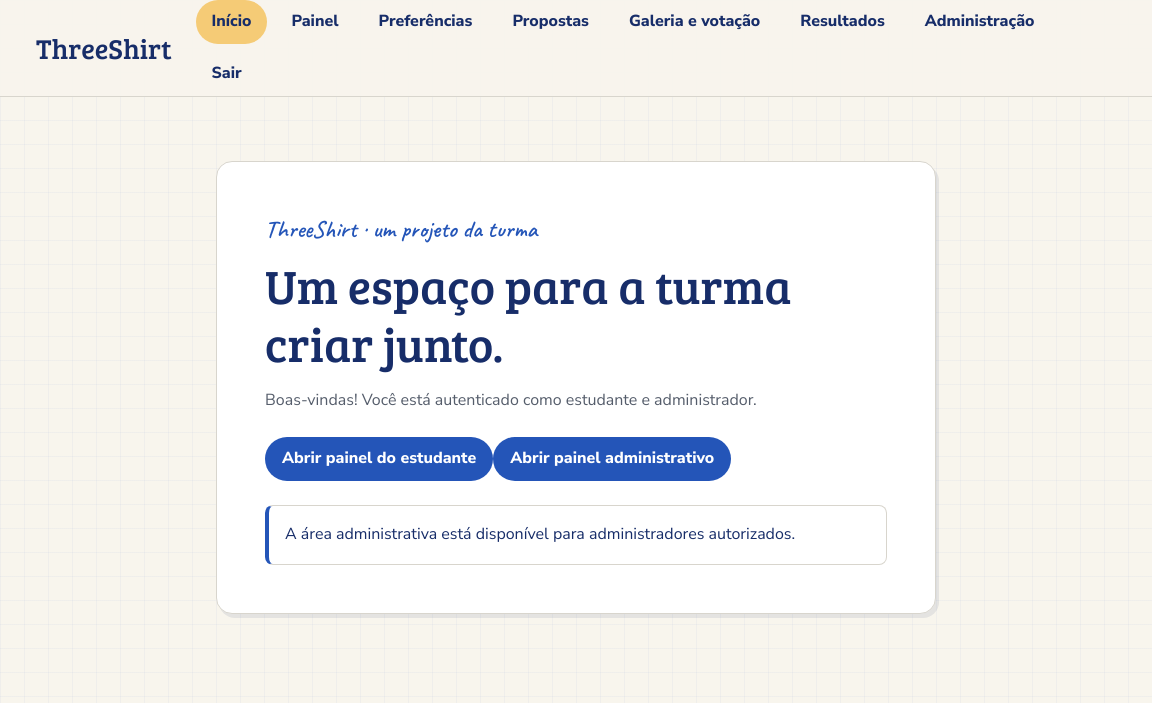
Test: a student administrator sees both menus and can enter both protected areas
Check: the text "estudante e administrador" is shown, box [566,389,753,411]
Check: the link "Propostas" is shown, box [512,10,589,32]
Click the link "Preferências" at (425, 21), box [378,10,472,32]
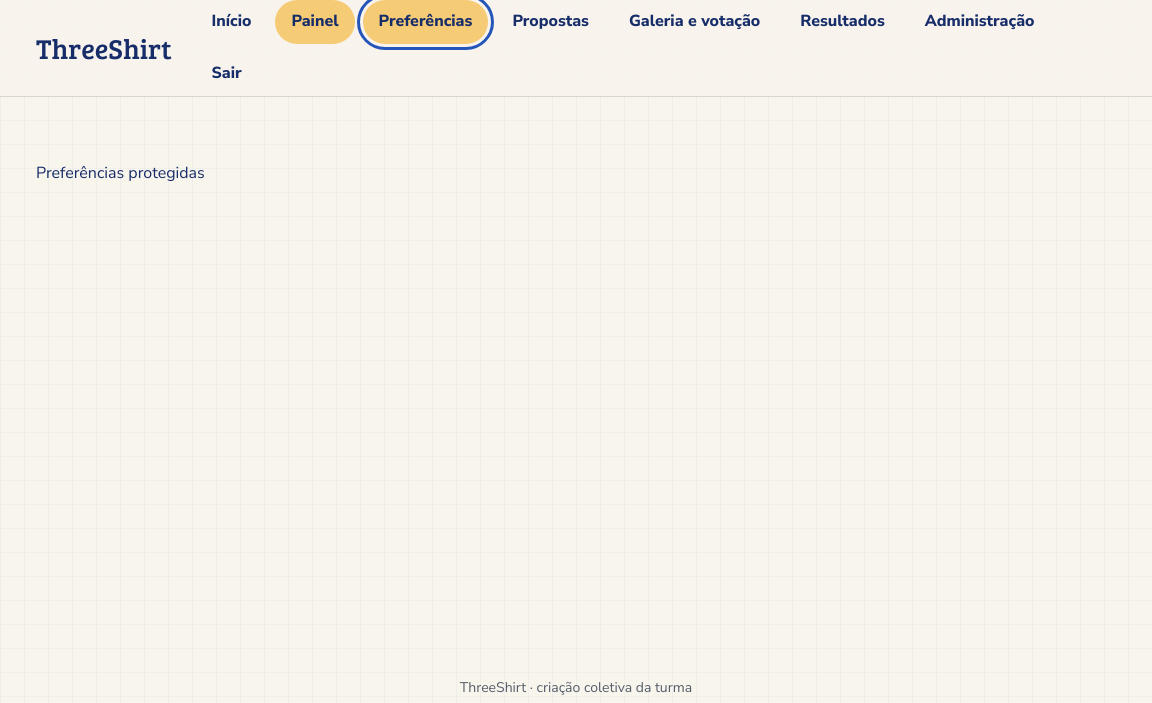
Check: the text "Preferências protegidas" is shown, box [36,162,205,184]
Click the link "Administração" at (980, 21), box [925,10,1034,32]
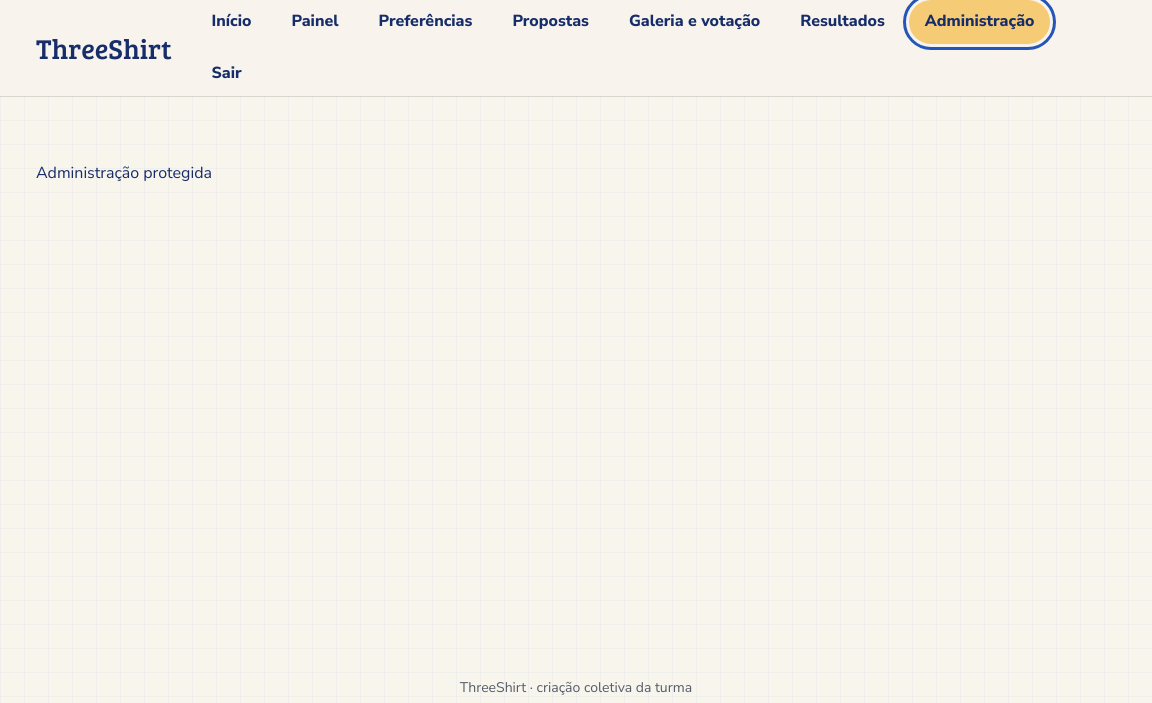
Check: the text "Administração protegida" is shown, box [36,162,212,184]
